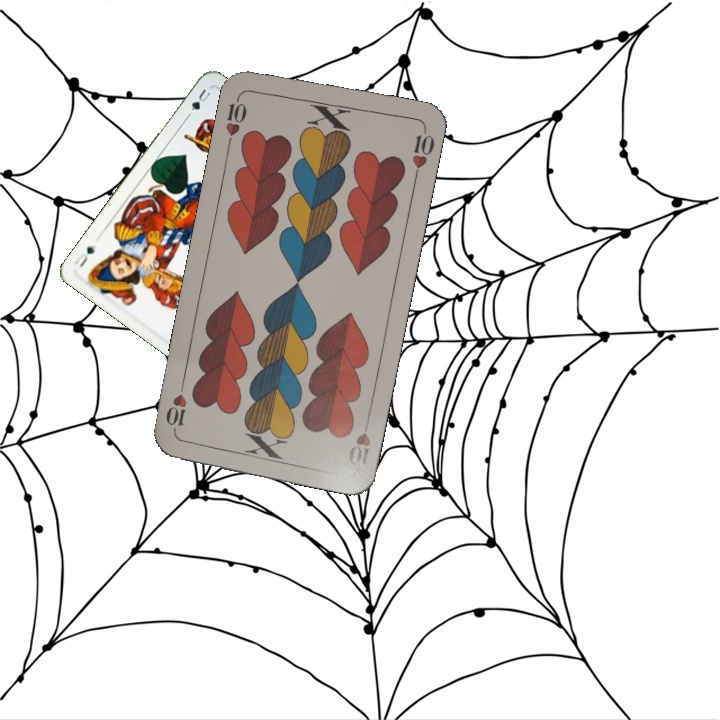GU: (184, 85, 213, 119)
H10: (344, 412, 373, 471), (221, 90, 250, 148)
